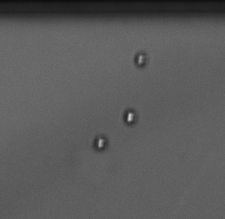Living Cell: (123, 108, 139, 126), (92, 135, 108, 152), (132, 51, 148, 67)
